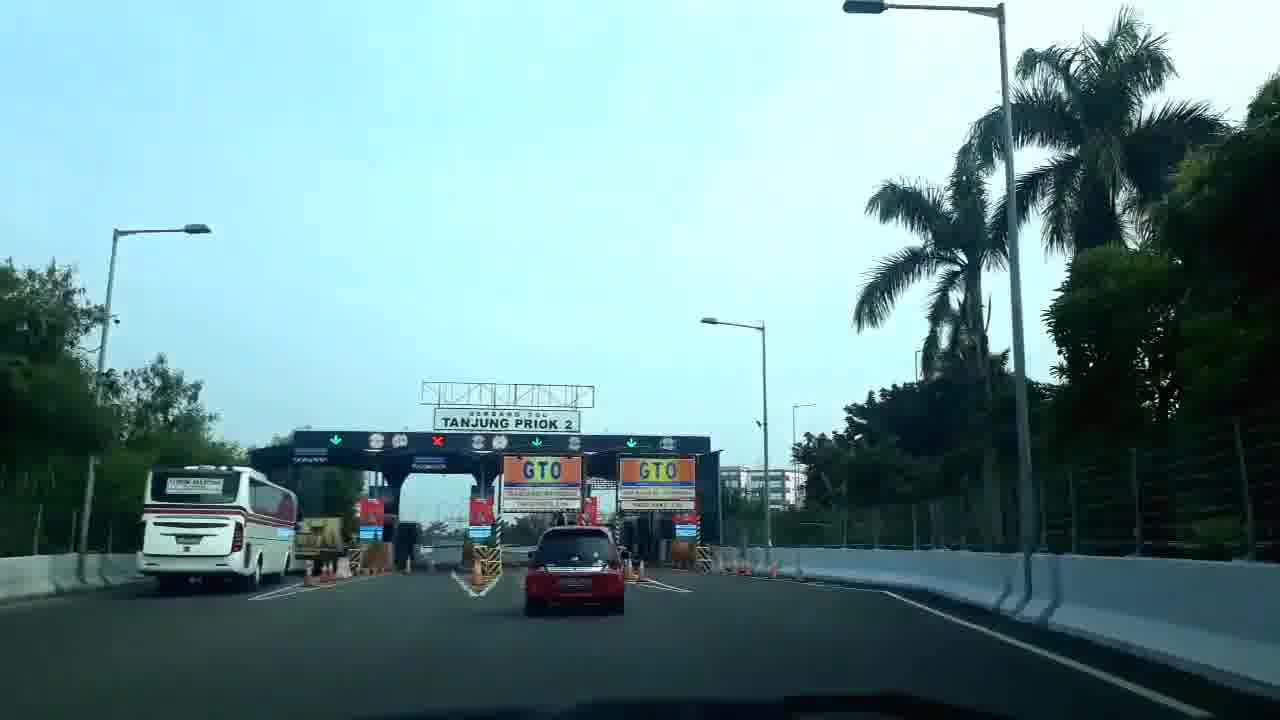plate_positive: (560, 578, 591, 589)
